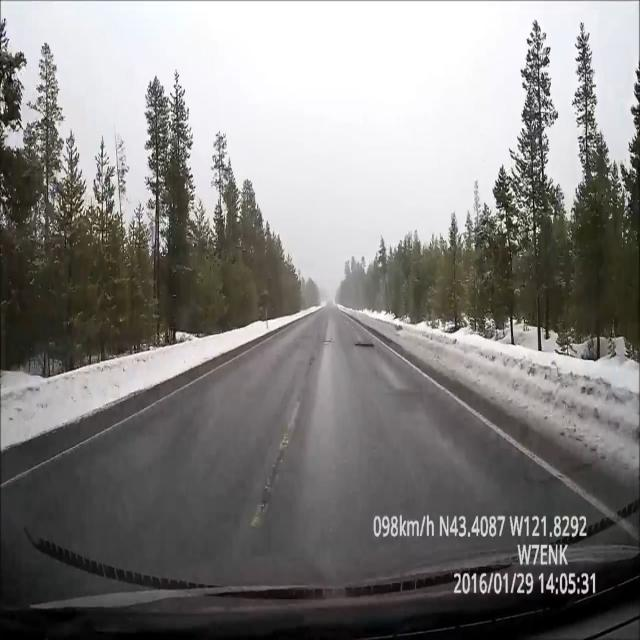Pothole: (351, 325, 379, 363)
